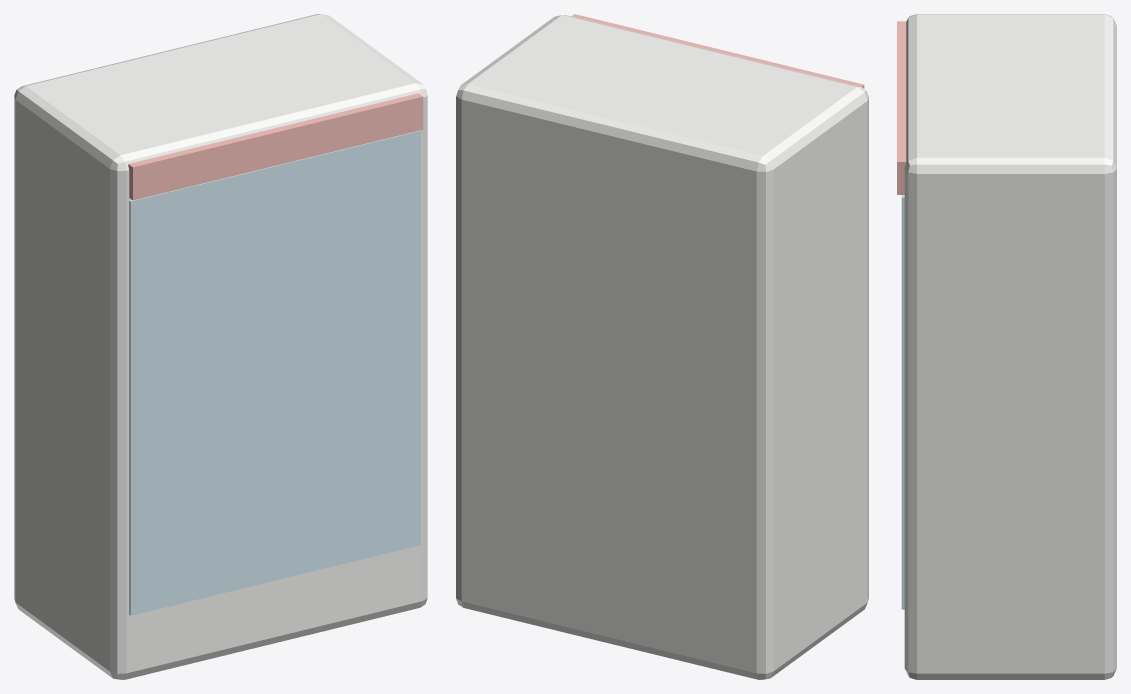
The model's file is freezer_mercado.glb.
The picture shows the model from 3 angles, left to right: view 1: azimuth 30°, elevation 25°; view 2: azimuth 150°, elevation 25°; view 3: azimuth 270°, elevation 25°; orthographic projection.
Visible parts, largest first — view 1: freezer_mercado; view 2: freezer_mercado; view 3: freezer_mercado.
Part boxes in pixels (x1,y1,x2,y2): freezer_mercado: (14,14,427,679); freezer_mercado: (456,14,868,679); freezer_mercado: (897,14,1116,679).
Size of the model in its own units: 1.2 by 1.9 by 0.725.
